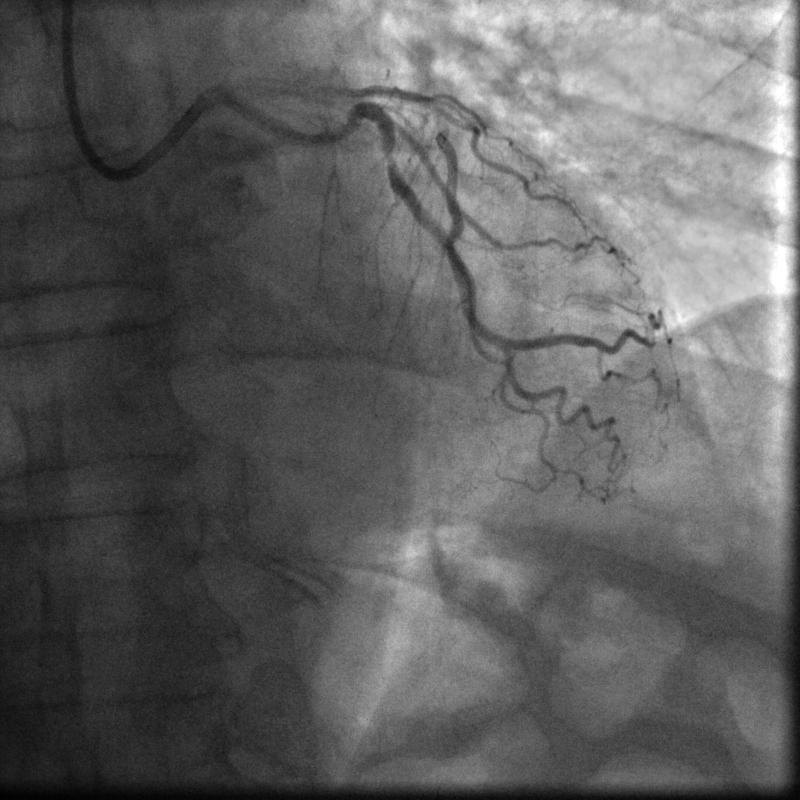Stenosis: (383, 147, 398, 169)
